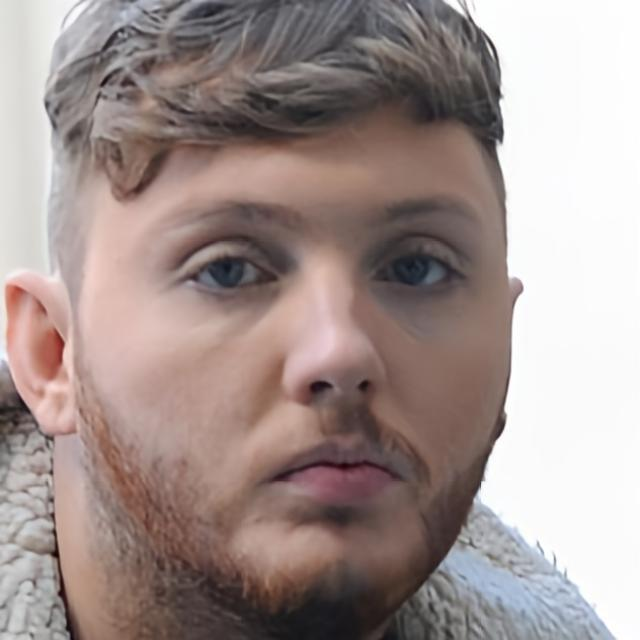neutral: (74, 100, 516, 638)
